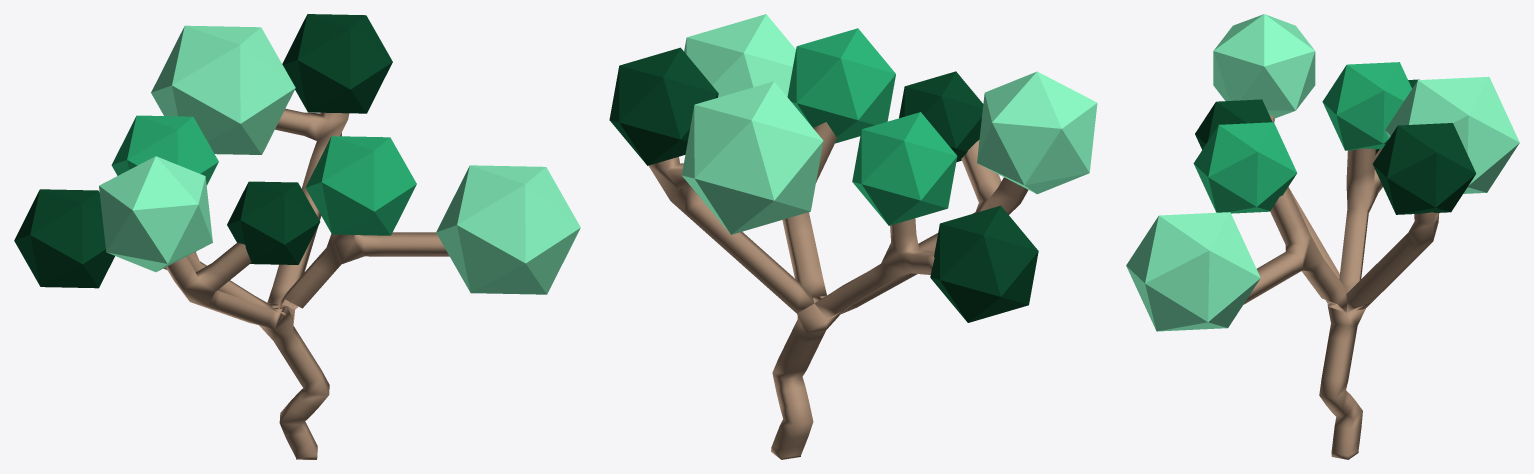
Rendered from boom.fbx.
3 views of the same model, side by side, from view 1: azimuth 30°, elevation 25°; view 2: azimuth 150°, elevation 25°; view 3: azimuth 270°, elevation 25° (orthographic). The views are drawn at different scales.
Visible parts, largest first — view 1: Cube, Icosphere, Icosphere.004, Icosphere.005, Icosphere.002, Icosphere.003, Icosphere.006, Icosphere.007, Icosphere.001; view 2: Cube, Icosphere.004, Icosphere.005, Icosphere.006, Icosphere.002, Icosphere.001, Icosphere.003, Icosphere, Icosphere.007; view 3: Cube, Icosphere, Icosphere.005, Icosphere.004, Icosphere.003, Icosphere.002, Icosphere.001, Icosphere.007.
Part boxes in pixels (bbox=[...]): Cube: bbox=[163, 108, 449, 459]; Icosphere: bbox=[436, 165, 580, 294]; Icosphere.004: bbox=[151, 25, 295, 154]; Icosphere.005: bbox=[99, 156, 212, 272]; Icosphere.002: bbox=[305, 136, 416, 235]; Icosphere.003: bbox=[282, 14, 392, 113]; Icosphere.006: bbox=[14, 189, 114, 288]; Icosphere.007: bbox=[227, 181, 320, 264]; Icosphere.001: bbox=[111, 115, 218, 185]; Cube: bbox=[649, 122, 1028, 459]; Icosphere.004: bbox=[681, 81, 823, 234]; Icosphere.005: bbox=[977, 71, 1097, 194]; Icosphere.006: bbox=[930, 205, 1038, 322]; Icosphere.002: bbox=[787, 28, 895, 143]; Icosphere.001: bbox=[852, 112, 957, 225]; Icosphere.003: bbox=[609, 47, 718, 165]; Icosphere: bbox=[684, 14, 795, 97]; Icosphere.007: bbox=[899, 71, 983, 162]; Cube: bbox=[1243, 115, 1439, 459]; Icosphere: bbox=[1126, 212, 1260, 331]; Icosphere.005: bbox=[1213, 14, 1315, 118]; Icosphere.004: bbox=[1385, 76, 1519, 193]; Icosphere.003: bbox=[1372, 123, 1476, 214]; Icosphere.002: bbox=[1193, 122, 1296, 213]; Icosphere.001: bbox=[1322, 62, 1411, 150]; Icosphere.007: bbox=[1195, 99, 1272, 149].
Size of the model in its own units: 1450 by 1231 by 1212.
